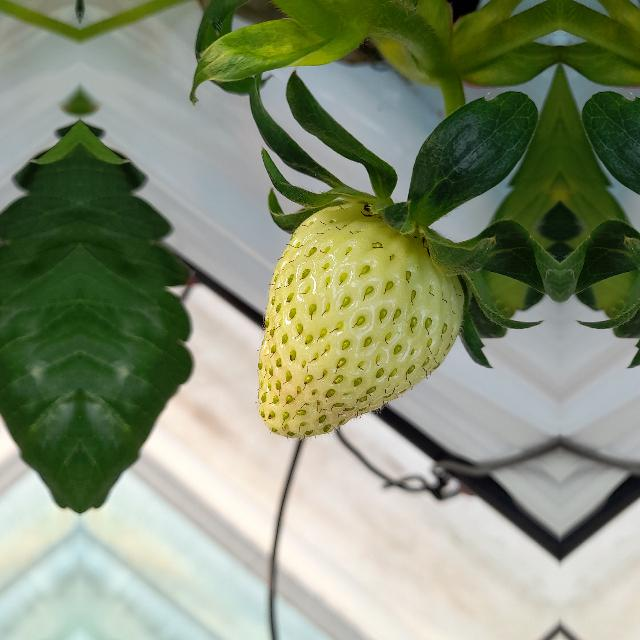Health_25: (254, 203, 464, 442)
